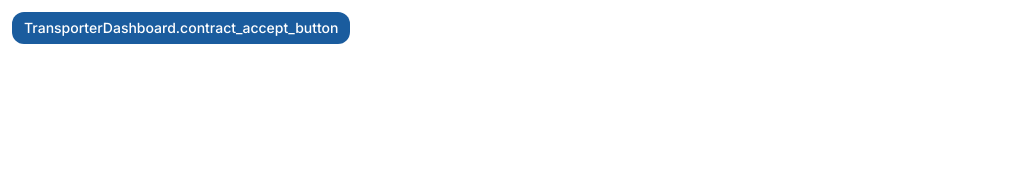
Test: I-5 §3G — the Transporter’s acceptance is the contract signature › surfaces the governed refusal instead of claiming success
This screenshot has width=1036, height=172.
Click the button "TransporterDashboard.contract_accept_button": x=181, y=28 [12, 12, 350, 44]
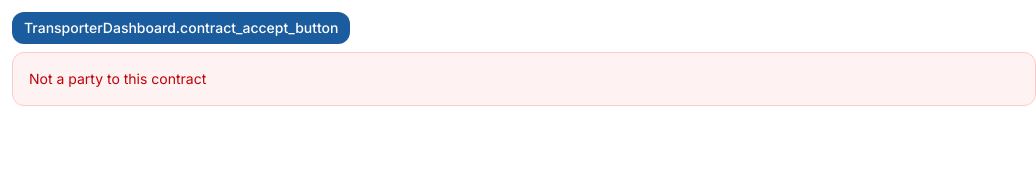
Expected: the message reads "Not a party to this contract", [29, 70, 206, 87]
